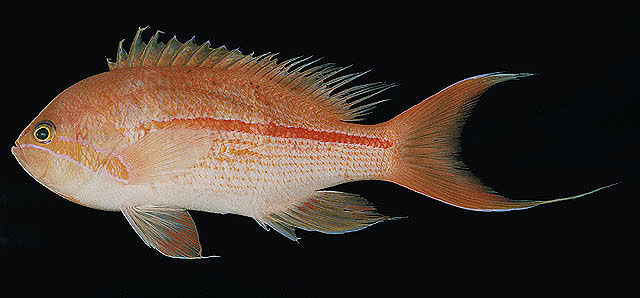fish: (10, 25, 618, 260)
